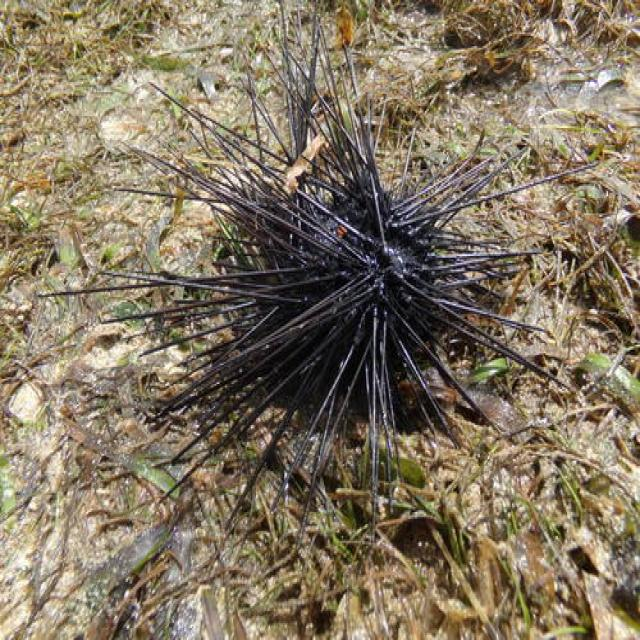Urchin: (37, 12, 597, 553)
